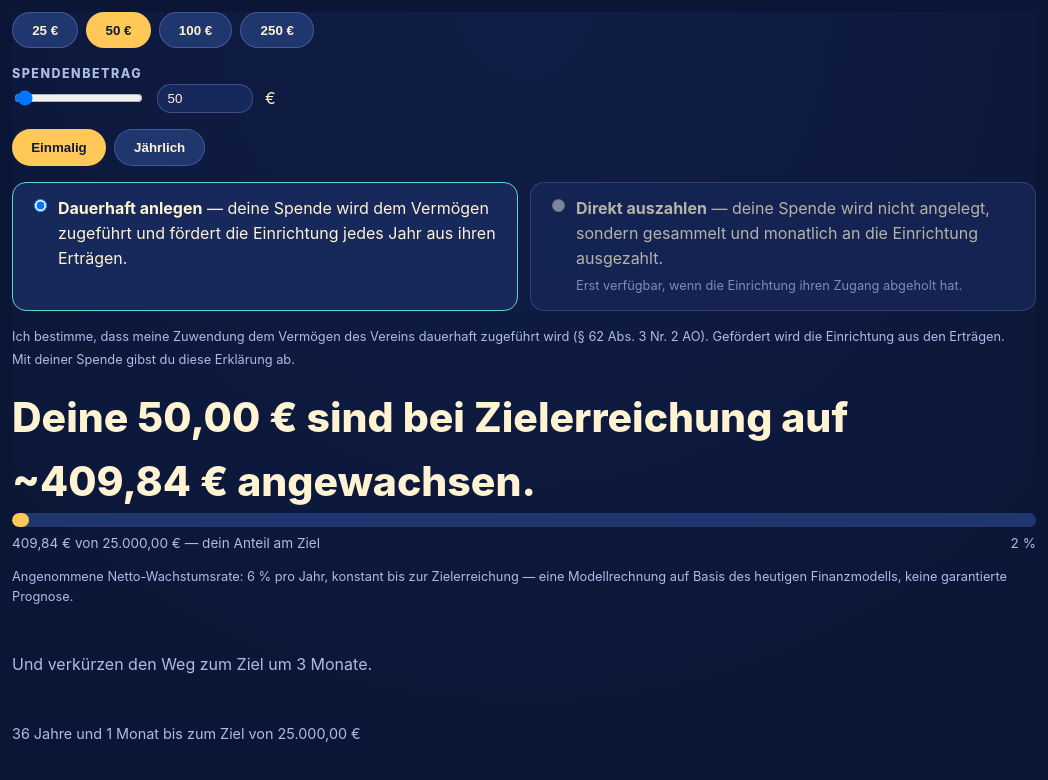
Test case: SpendenRechner › Rechner-Reframing (Zukunftswert-Story statt Wartezeit) › zeigt den Jährlich-Hero-Pfad mit erreichbarem Ziel: Rentenbarwert-Verdrahtung mit jährlicher Wording
The image size is (1048, 780).
Click the button "Jährlich" at point(160, 147), box [114, 129, 205, 166]
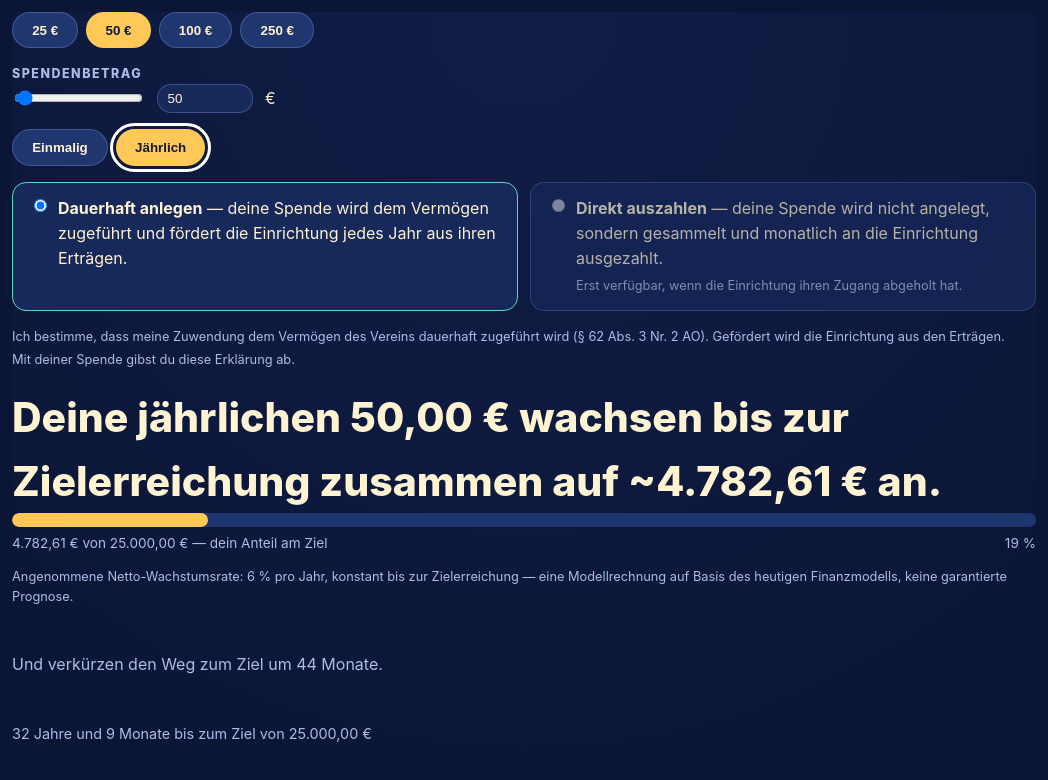
Expected: the element with test id "zukunftswert-hero" is shown, [12, 386, 1036, 620]
Expected: the element with test id "zukunftswert-hero" shows "Deine jährlichen", [12, 392, 942, 506]
Expected: the element with test id "zukunftswert-hero" shows "wachsen bis zur Zielerreichung", [12, 392, 942, 506]
